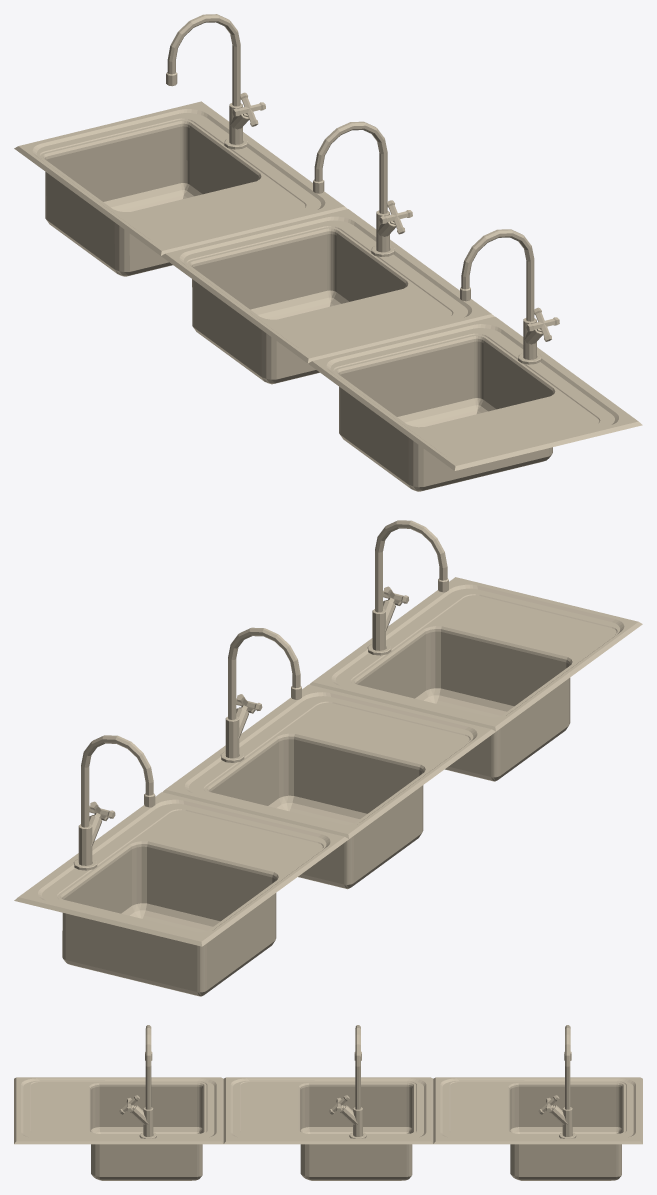
File: Pia1.obj
3 views of the same model, one above another, from view 1: azimuth 30°, elevation 25°; view 2: azimuth 150°, elevation 25°; view 3: azimuth 270°, elevation 25° (orthographic). The views are drawn at different scales.
Parts seen in each view (by area): view 1: Mesh.006_evier02.005, Mesh.001_evier02.004, Mesh.1607_evier02.001, Mesh.1606_ev_08.001, Mesh.002_ev_08.004, Mesh.005_ev_08.005; view 2: Mesh.1607_evier02.001, Mesh.001_evier02.004, Mesh.006_evier02.005, Mesh.1606_ev_08.001, Mesh.002_ev_08.004, Mesh.005_ev_08.005; view 3: Mesh.001_evier02.004, Mesh.1607_evier02.001, Mesh.006_evier02.005, Mesh.005_ev_08.005, Mesh.1606_ev_08.001, Mesh.002_ev_08.004.
Boxes of the visible parts, x1,y1,x2,y2 form: Mesh.006_evier02.005: [308, 316, 642, 491]; Mesh.001_evier02.004: [161, 209, 494, 384]; Mesh.1607_evier02.001: [14, 101, 347, 276]; Mesh.1606_ev_08.001: [166, 14, 265, 144]; Mesh.002_ev_08.004: [313, 121, 412, 252]; Mesh.005_ev_08.005: [460, 229, 559, 359]; Mesh.1607_evier02.001: [14, 792, 348, 996]; Mesh.001_evier02.004: [162, 684, 495, 889]; Mesh.006_evier02.005: [309, 577, 642, 781]; Mesh.1606_ev_08.001: [78, 735, 155, 865]; Mesh.002_ev_08.004: [225, 627, 301, 758]; Mesh.005_ev_08.005: [372, 520, 448, 650]; Mesh.001_evier02.004: [223, 1077, 433, 1180]; Mesh.1607_evier02.001: [433, 1077, 642, 1180]; Mesh.006_evier02.005: [14, 1077, 223, 1180]; Mesh.005_ev_08.005: [119, 1025, 153, 1136]; Mesh.1606_ev_08.001: [538, 1025, 572, 1136]; Mesh.002_ev_08.004: [329, 1025, 362, 1136].
Size of the model in its own units: 0.9661 by 1.03 by 3.92.
